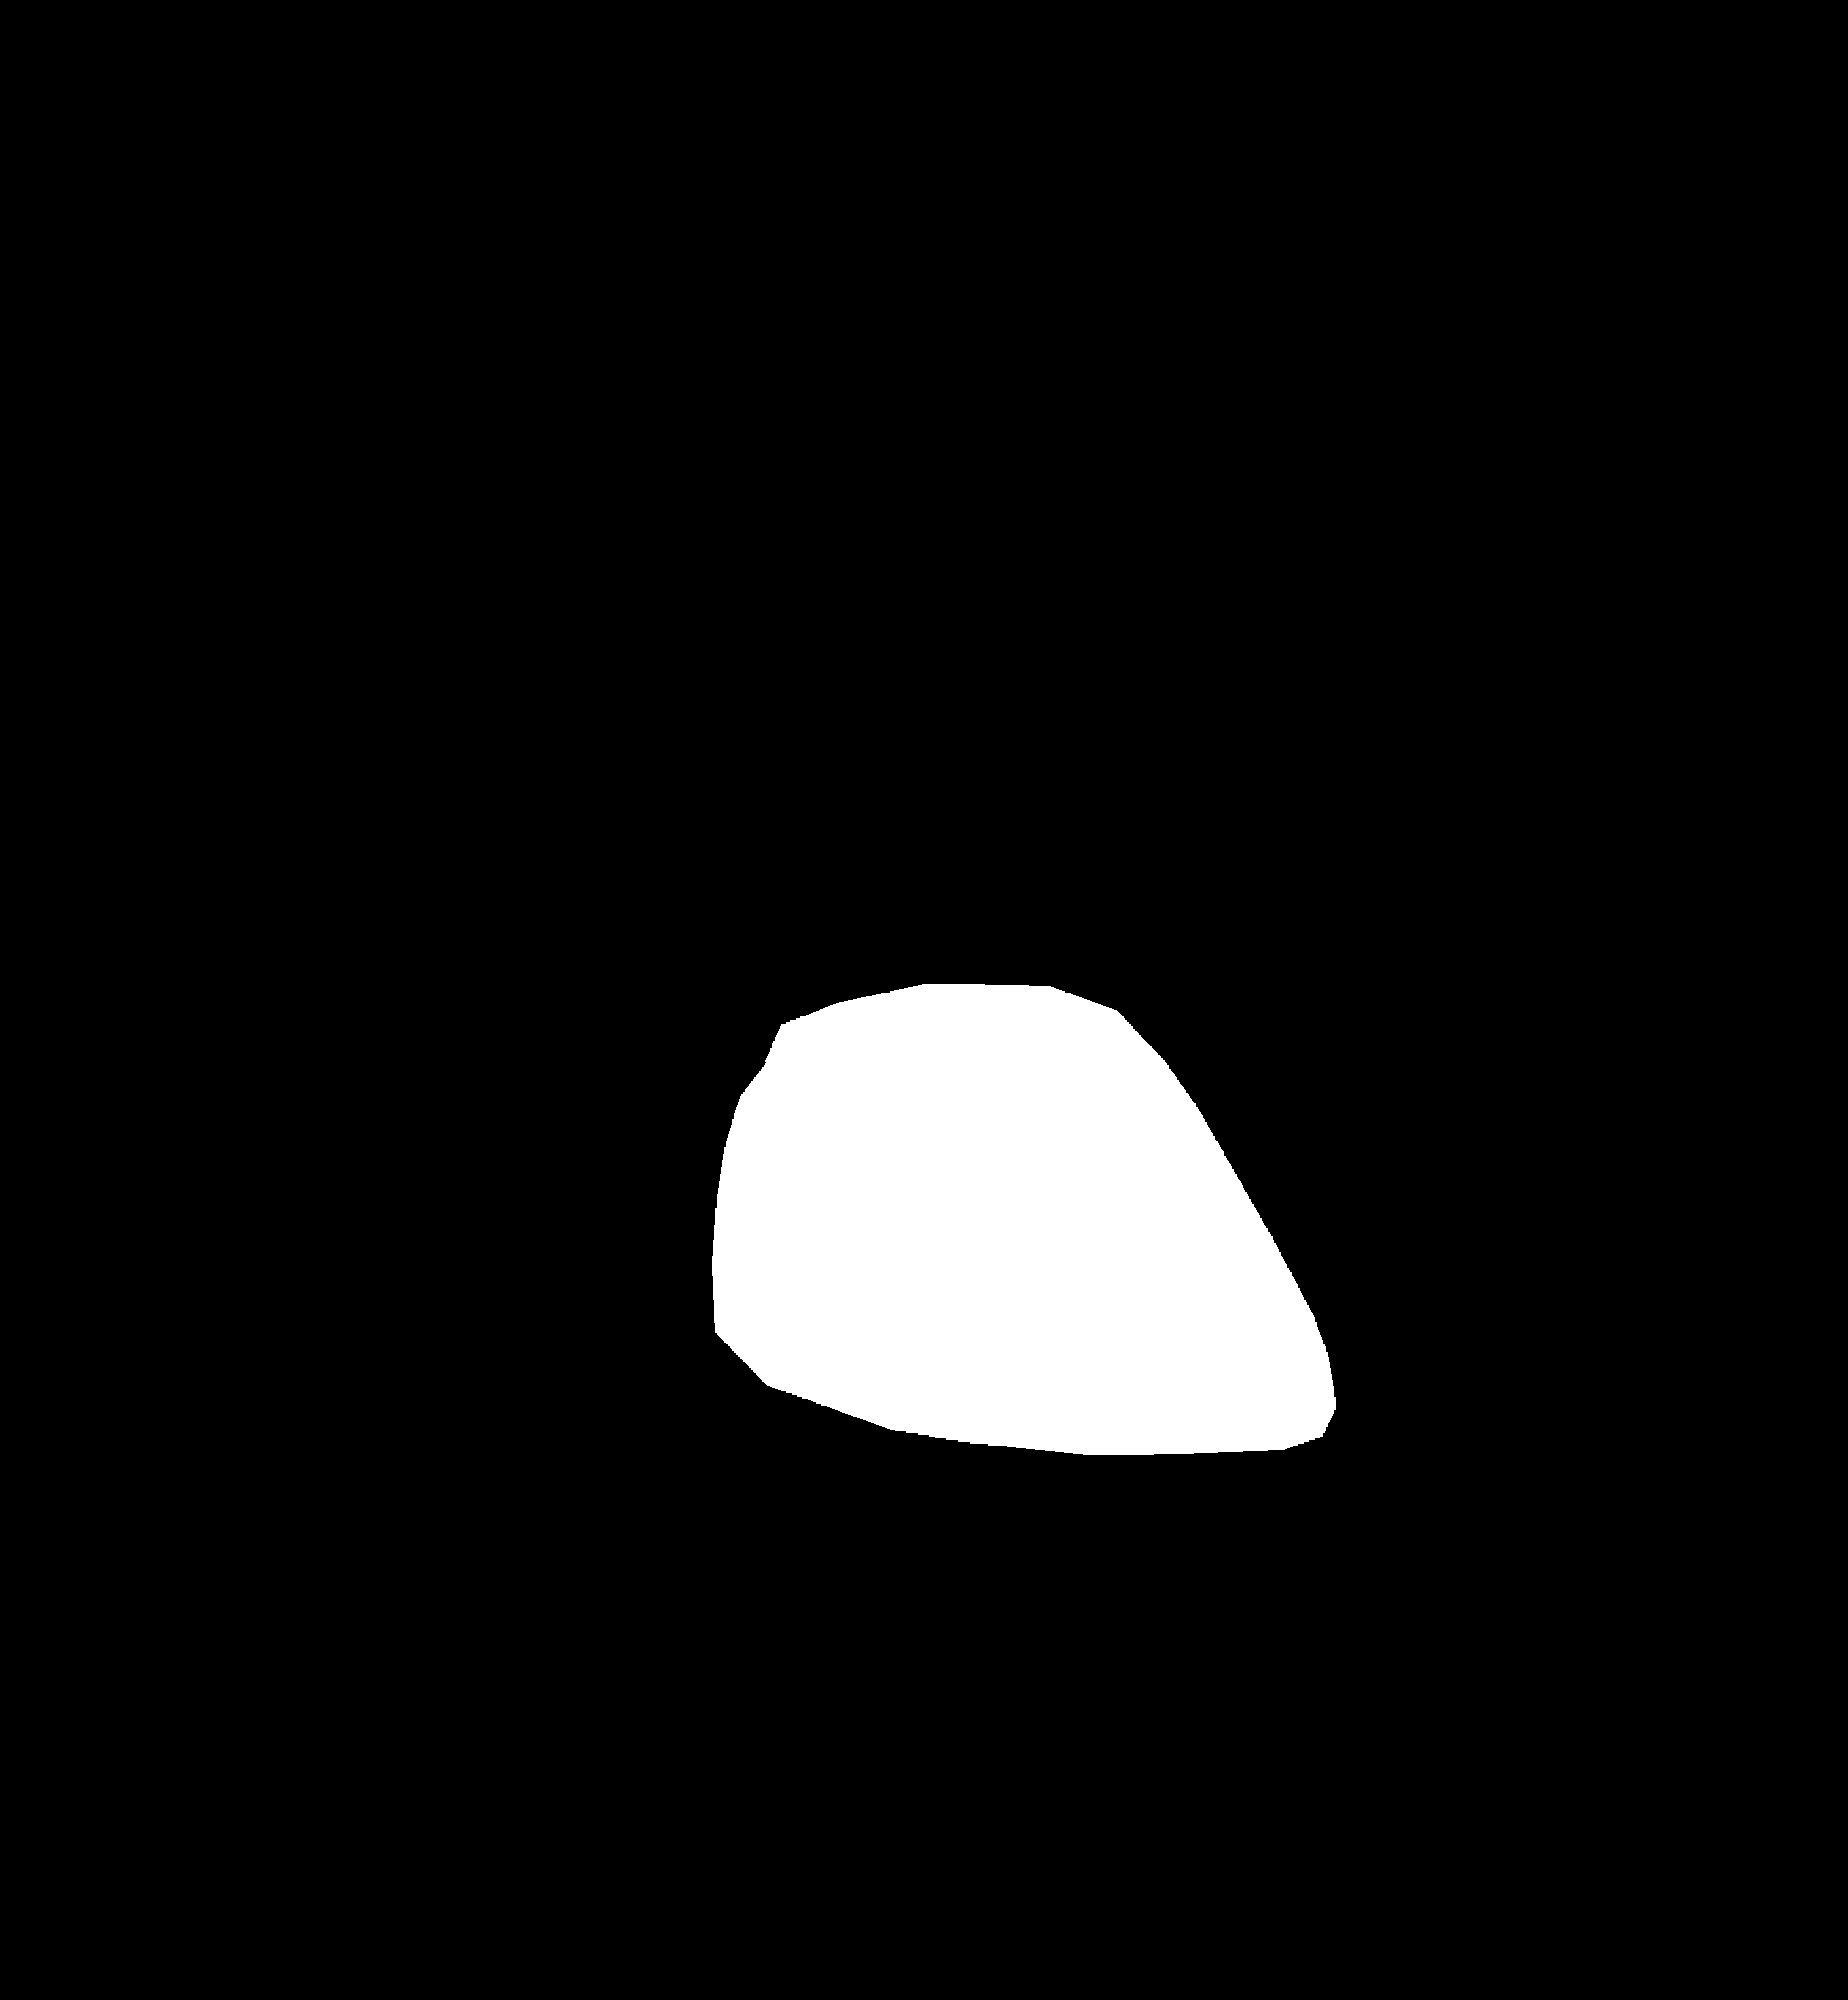heart: (714, 1021, 1345, 1549)
left_lung: (221, 301, 888, 1660)
right_lung: (1036, 315, 1672, 1629)
